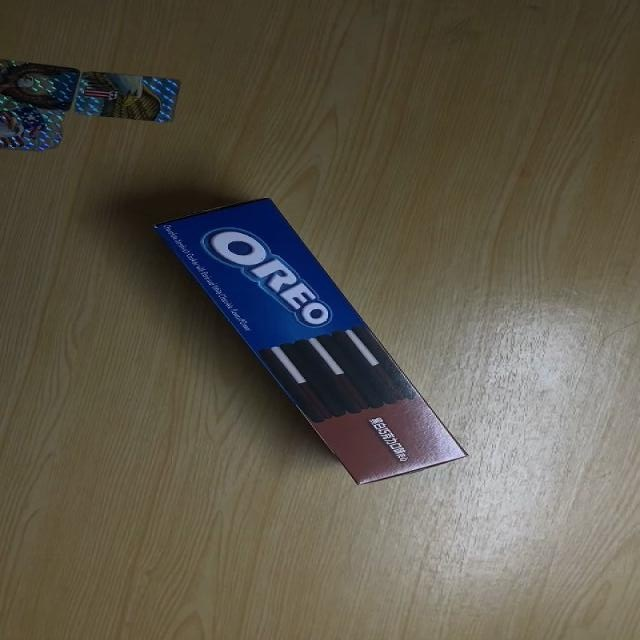Oreo: (147, 197, 468, 487)
